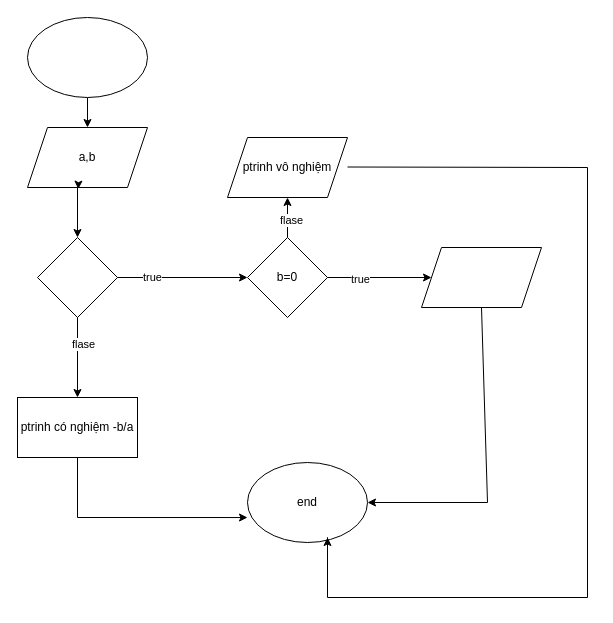
Some shapes in this 613 by 623 pixel diagram are drawn without their labels. The centre of each missing label's shape, as x and y in pixels:
a=0: the point at 77,277
ptrinh vô số nghiệm: the point at 481,277
start: the point at 87,57
